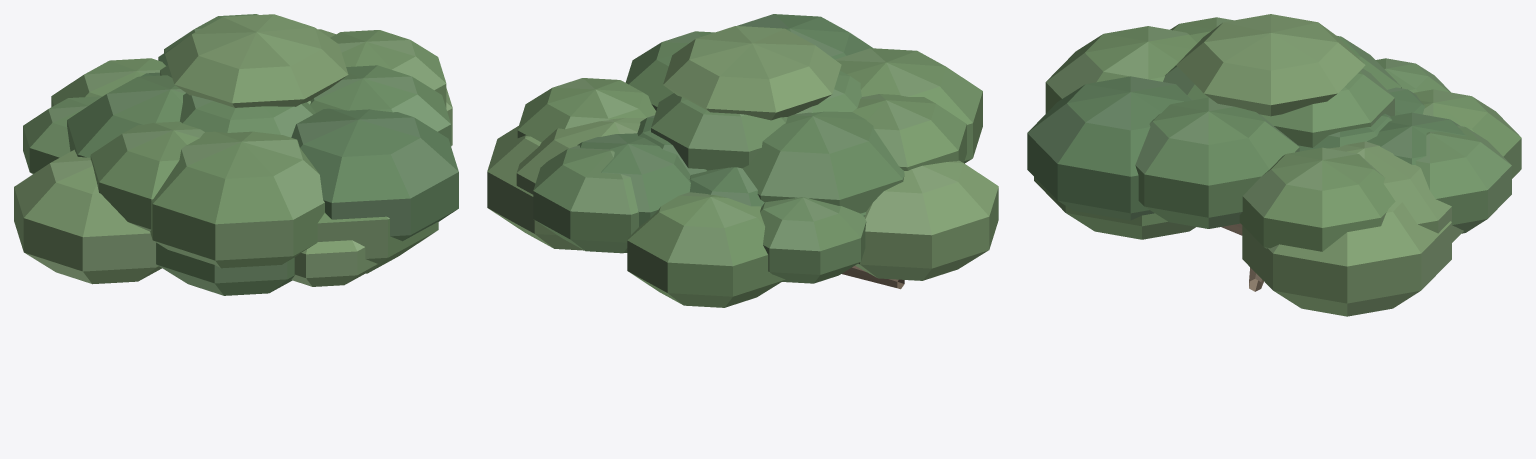
File: oak_canopy.glb
3 views of the same model, side by side, from view 1: azimuth 30°, elevation 25°; view 2: azimuth 150°, elevation 25°; view 3: azimuth 270°, elevation 25° (orthographic). The views are drawn at different scales.
Parts seen in each view (by area): view 1: ../env/oak_canopy; view 2: ../env/oak_canopy; view 3: ../env/oak_canopy.
Boxes of the visible parts, x1,y1,x2,y2 form: ../env/oak_canopy: (14, 14, 458, 295); ../env/oak_canopy: (487, 14, 998, 307); ../env/oak_canopy: (1027, 14, 1521, 316).
Size of the model in its own units: 13.47 by 11.5 by 12.51.
